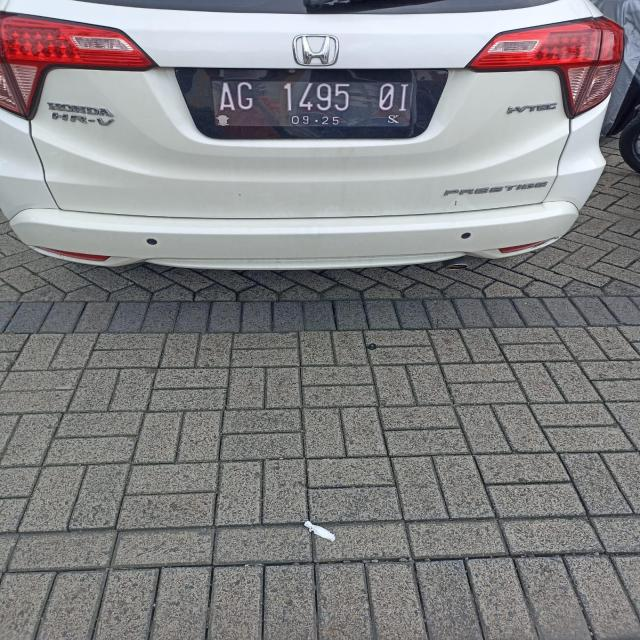license-plate: (212, 78, 414, 135)
